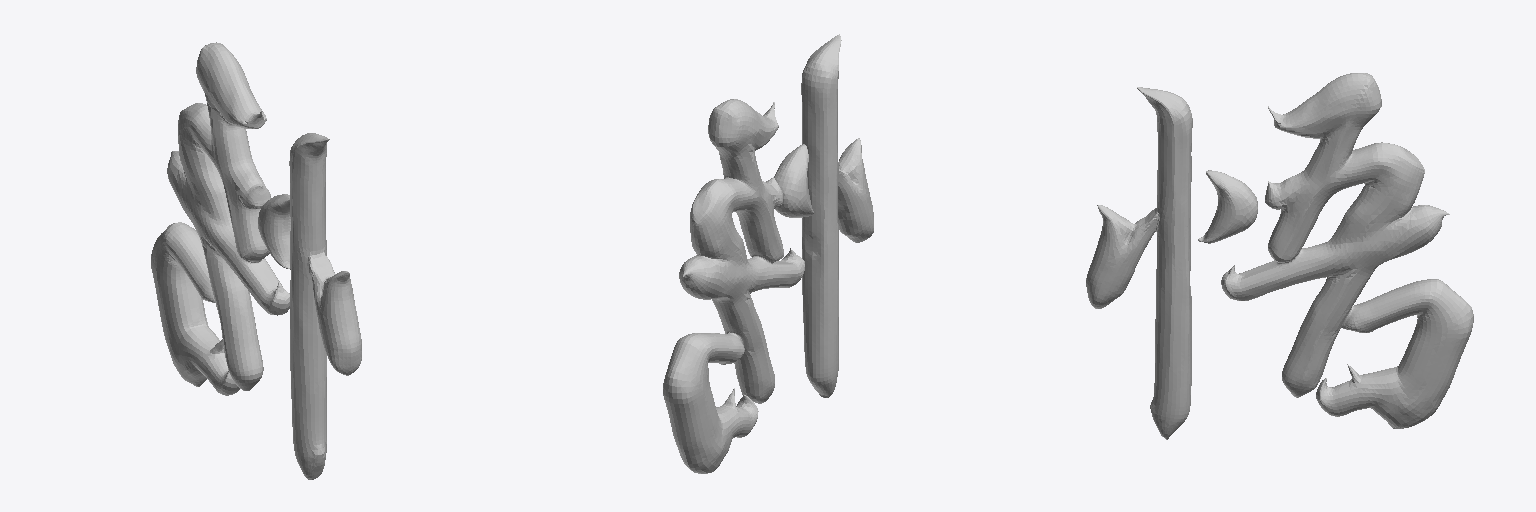
The picture shows the model from 3 angles: view 1: azimuth 30°, elevation 25°; view 2: azimuth 150°, elevation 25°; view 3: azimuth 270°, elevation 25°; orthographic projection.
Visible parts, largest first — view 1: tripo_node_152fcddd-89d4-466e-a745-6cf103438d02; view 2: tripo_node_152fcddd-89d4-466e-a745-6cf103438d02; view 3: tripo_node_152fcddd-89d4-466e-a745-6cf103438d02.
Part boxes in pixels (bbox=[...]): tripo_node_152fcddd-89d4-466e-a745-6cf103438d02: bbox=[151, 42, 361, 479]; tripo_node_152fcddd-89d4-466e-a745-6cf103438d02: bbox=[663, 34, 873, 473]; tripo_node_152fcddd-89d4-466e-a745-6cf103438d02: bbox=[1086, 73, 1473, 439].
Bounding box in the file's own units: 0.105 × 0.9997 × 0.9621.